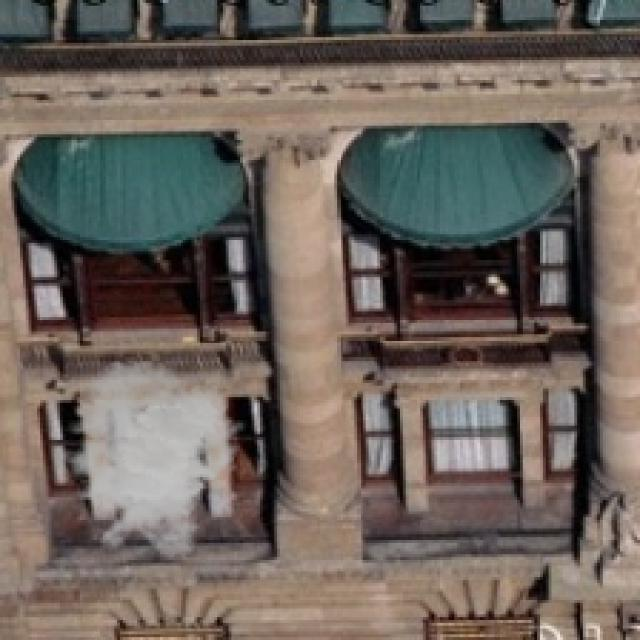Smoke: (46, 357, 246, 560)
